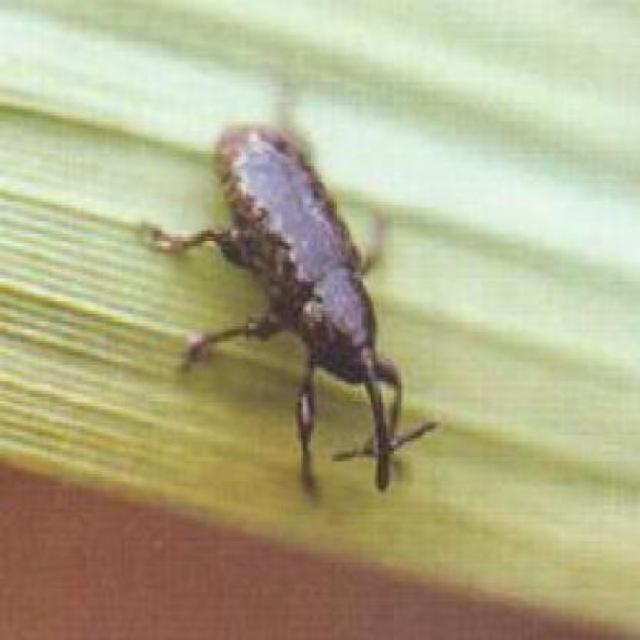rice-bug: (184, 112, 436, 494)
